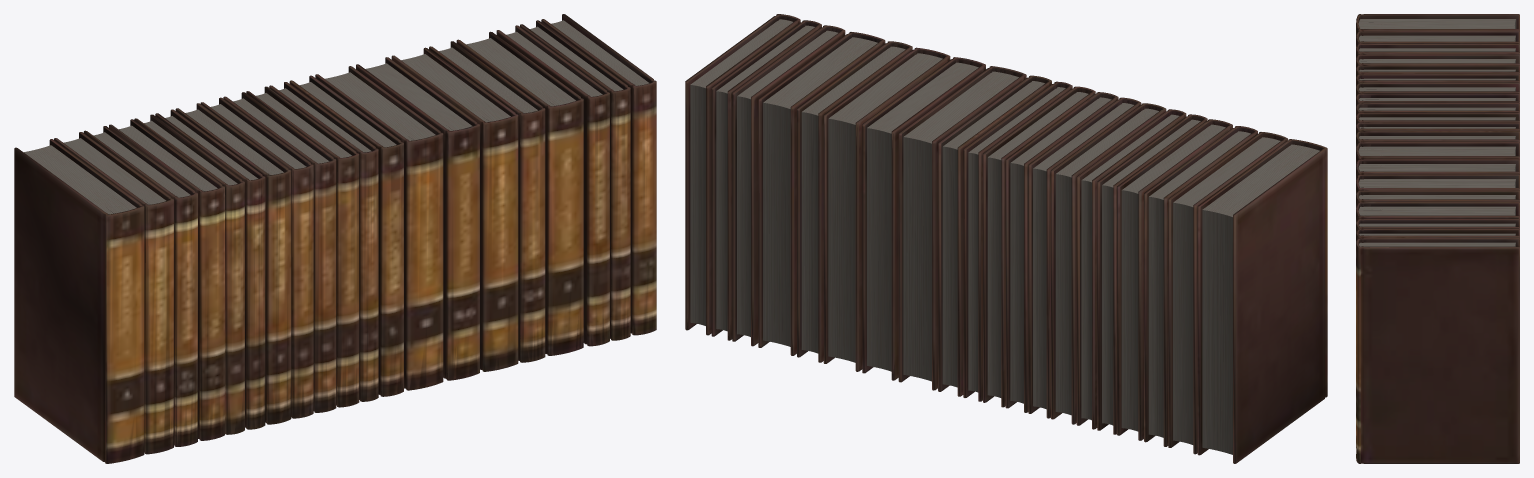
Rendered from book_encyclopedia_set_01.glb.
3 renders of one model, left to right at view 1: azimuth 30°, elevation 25°; view 2: azimuth 150°, elevation 25°; view 3: azimuth 270°, elevation 25°, orthographic. The views are drawn at different scales.
Visible parts, largest first — view 1: book_encyclopedia_set_01_book01; view 2: book_encyclopedia_set_01_book01; view 3: book_encyclopedia_set_01_book01.
Boxes of the visible parts, x1,y1,x2,y2 form: book_encyclopedia_set_01_book01: (14, 14, 656, 463); book_encyclopedia_set_01_book01: (685, 14, 1327, 463); book_encyclopedia_set_01_book01: (1356, 14, 1519, 463).
Size of the model in its own units: 0.5513 by 0.2374 by 0.1631.
2 materials, 2 textured.
